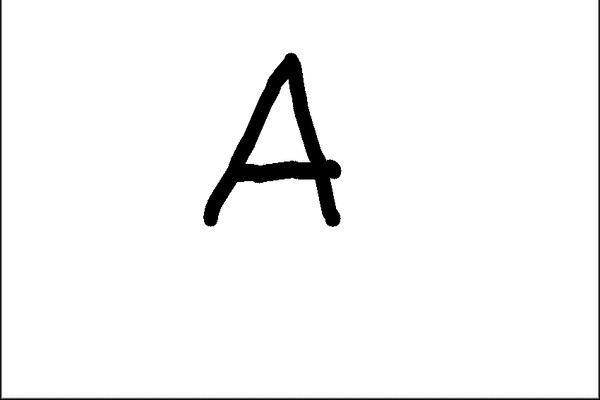A: (191, 47, 353, 233)
